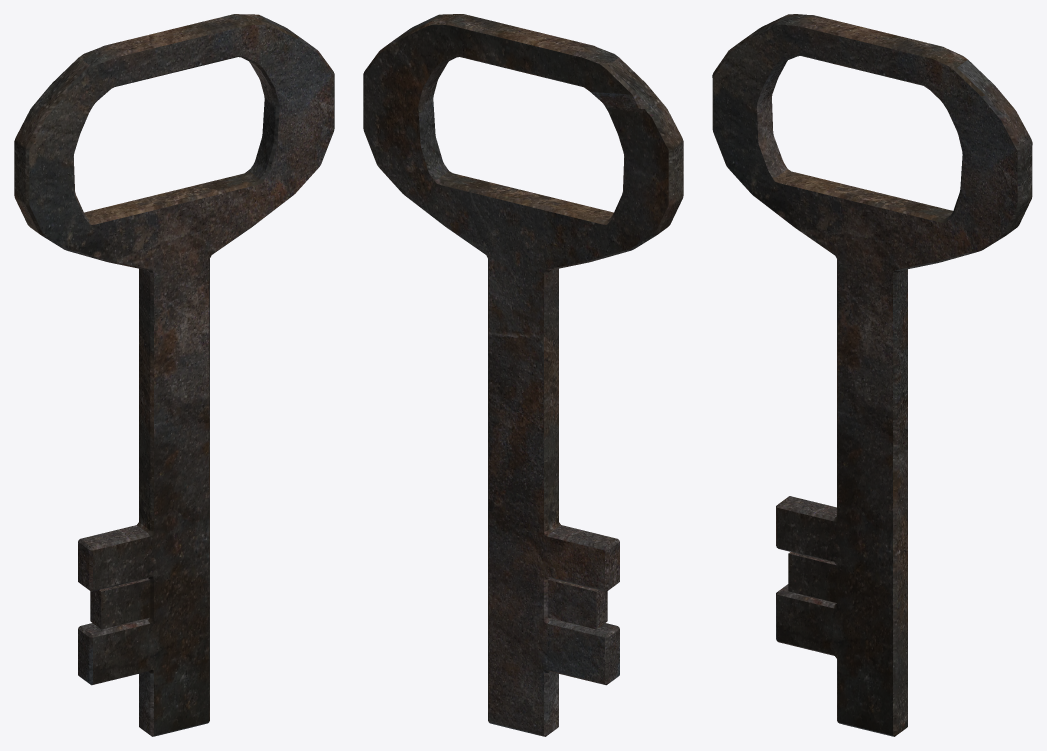
Rendered from Chave2RE1.fbx.
3 renders of one model, left to right at view 1: azimuth 30°, elevation 25°; view 2: azimuth 150°, elevation 25°; view 3: azimuth 330°, elevation 25°, orthographic.
Parts seen in each view (by area): view 1: Chave2; view 2: Chave2; view 3: Chave2.
Boxes of the visible parts, x1=… form: Chave2: x1=14, y1=14, x2=334, y2=736; Chave2: x1=363, y1=14, x2=683, y2=736; Chave2: x1=712, y1=14, x2=1032, y2=736.
Bounding box in the file's own units: 1.73 × 3.7 × 0.1383.
